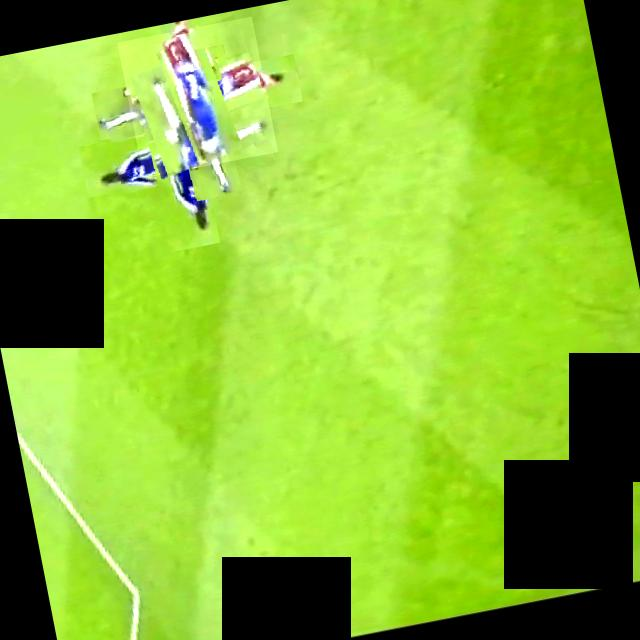ball: (190, 44, 229, 84)
soccer-player: (116, 17, 278, 178), (104, 82, 248, 227)
